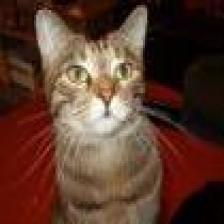cat: (31, 4, 162, 143)
